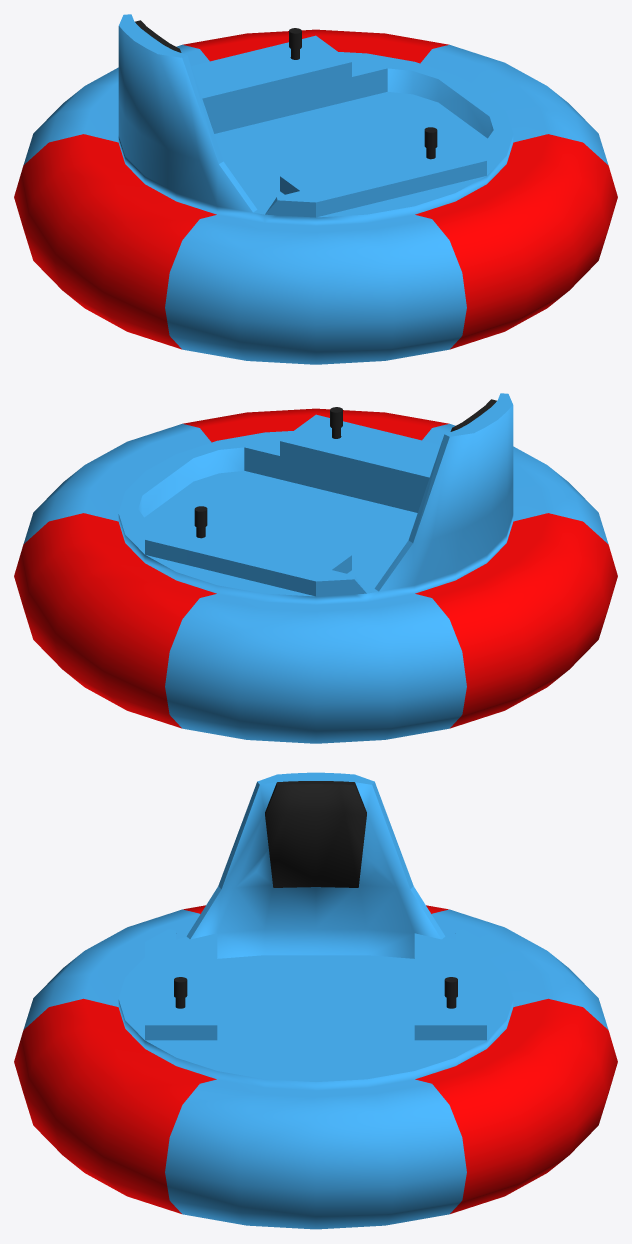
Rendered from TorusCart_lightblue_red.dae.
3 renders of one model, top to bottom at view 1: azimuth 30°, elevation 25°; view 2: azimuth 150°, elevation 25°; view 3: azimuth 270°, elevation 25°, orthographic.
Parts seen in each view (by area): view 1: Torus.001; view 2: Torus.001; view 3: Torus.001.
Part boxes in pixels (x1,y1,x2,y2): Torus.001: (14, 14, 617, 364); Torus.001: (14, 393, 617, 743); Torus.001: (14, 772, 617, 1229).
Bounding box in the file's own units: 1.3 × 1.3 × 0.6266.
